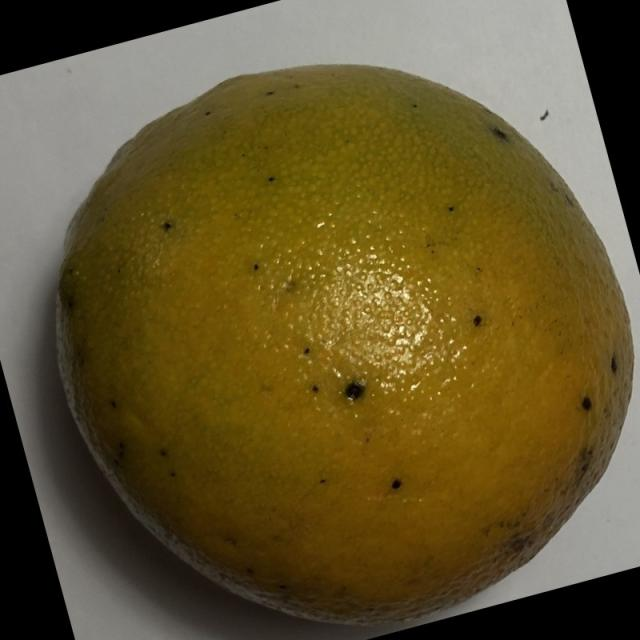black spot: (34, 56, 638, 630)
